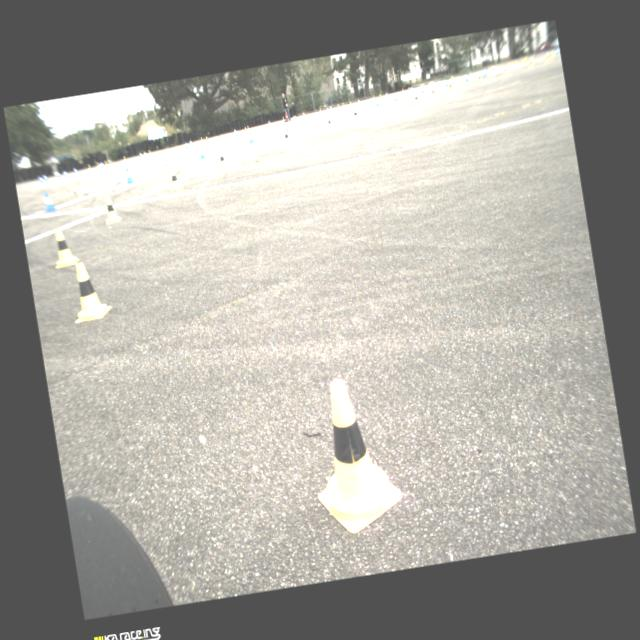blue_cone: (43, 192, 57, 212), (124, 167, 134, 184), (198, 146, 206, 160), (282, 121, 290, 132), (248, 132, 255, 144), (352, 103, 358, 113), (325, 111, 331, 121), (464, 72, 470, 82), (37, 175, 44, 183), (392, 92, 398, 101), (444, 78, 449, 88), (42, 174, 49, 181), (374, 98, 380, 106), (62, 170, 68, 178), (420, 85, 425, 94), (72, 167, 78, 174), (144, 152, 149, 160), (99, 162, 104, 170), (326, 107, 331, 114), (410, 86, 414, 94), (481, 70, 485, 78), (369, 96, 374, 102), (56, 172, 61, 178), (437, 80, 441, 87), (484, 69, 488, 76), (184, 142, 188, 148), (235, 130, 239, 136), (292, 116, 296, 122), (100, 161, 104, 167), (233, 128, 236, 134), (302, 112, 306, 116), (268, 120, 271, 125), (385, 92, 388, 97), (140, 152, 142, 158), (358, 98, 360, 104), (330, 105, 332, 110), (190, 140, 192, 144)
yellow_cone: (300, 372, 406, 538), (66, 259, 113, 323), (50, 226, 80, 268), (102, 194, 122, 224), (168, 168, 184, 192), (217, 150, 229, 170), (282, 129, 292, 145), (326, 116, 334, 130), (413, 93, 421, 105), (352, 109, 360, 121), (502, 65, 510, 76), (528, 58, 536, 68), (430, 88, 437, 98), (549, 50, 556, 60), (448, 81, 454, 91), (544, 54, 550, 64), (104, 160, 110, 169), (523, 56, 529, 65), (88, 164, 94, 172), (491, 65, 496, 74), (478, 72, 482, 82), (205, 136, 210, 143), (336, 104, 341, 111), (96, 162, 100, 170), (244, 126, 248, 134), (294, 114, 298, 122), (378, 93, 382, 101), (450, 76, 454, 84), (123, 156, 128, 162), (148, 149, 152, 156), (510, 61, 514, 67), (514, 60, 518, 66), (247, 125, 250, 132), (372, 95, 376, 100), (341, 102, 345, 107), (200, 137, 203, 143), (401, 88, 405, 92), (408, 86, 410, 94), (319, 108, 322, 113), (282, 117, 284, 122)
